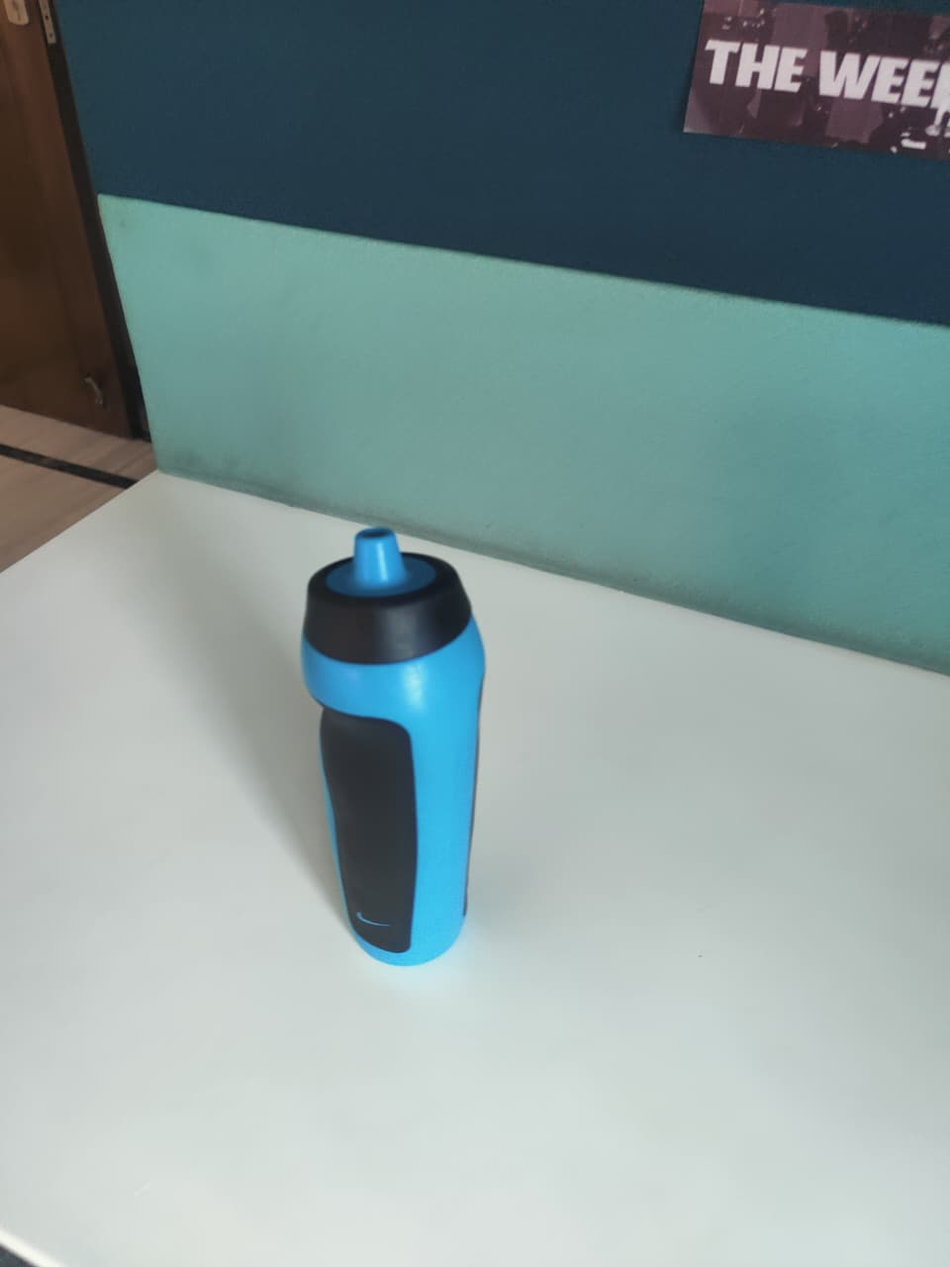bottle: (300, 527, 486, 966)
